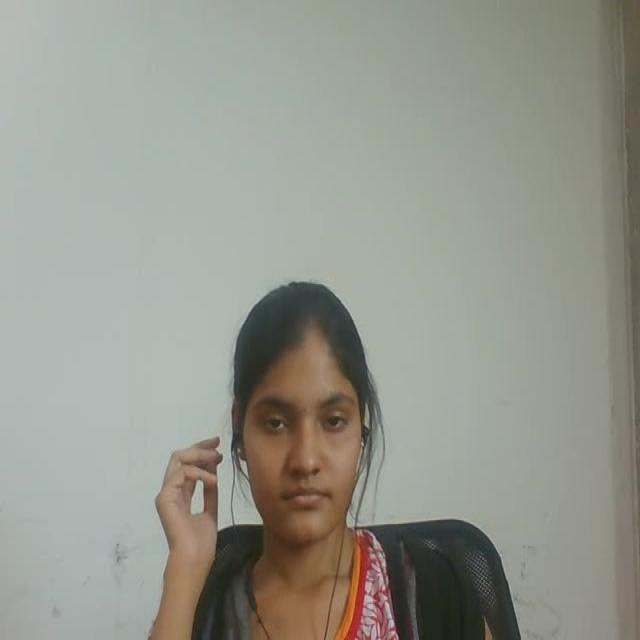Bored: (192, 239, 410, 579)
